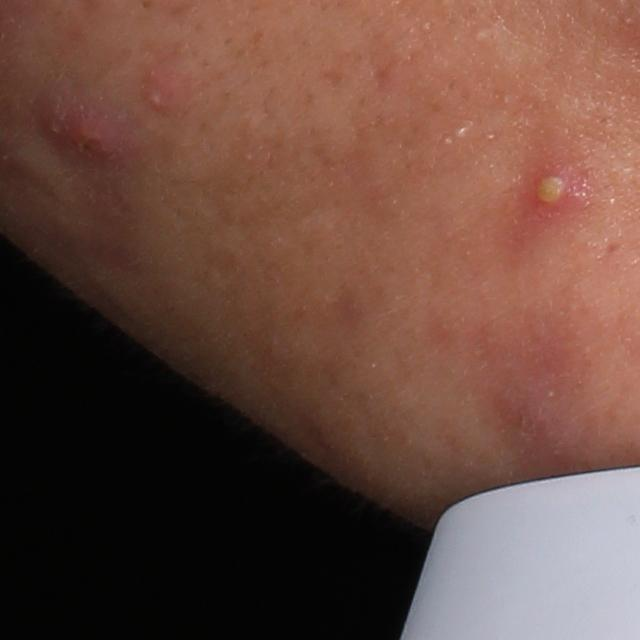papule: (63, 110, 121, 171)
pustule: (524, 154, 576, 214)
